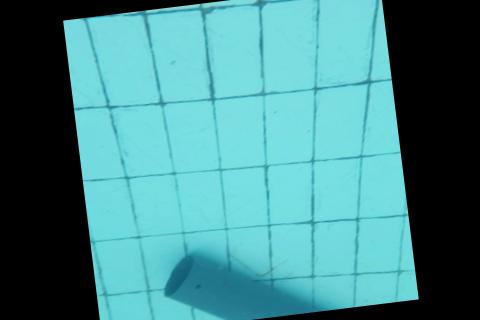kebocoran: (193, 283, 200, 289)
